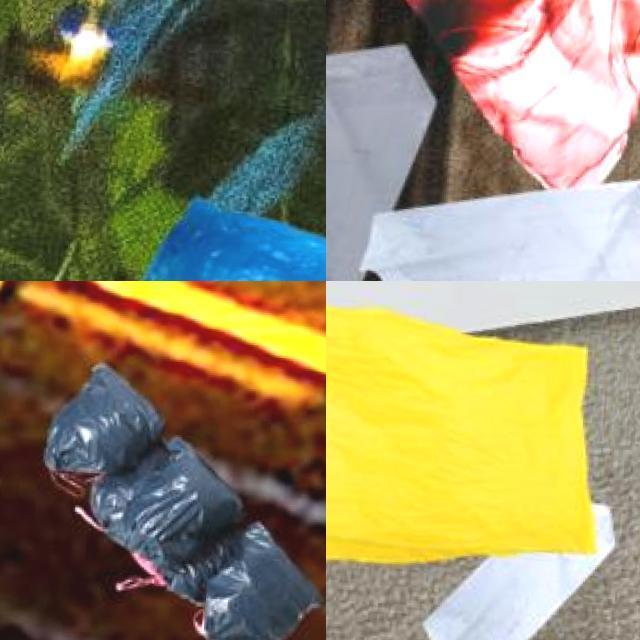waste: (326, 289, 615, 580), (370, 160, 640, 281), (326, 25, 443, 281), (84, 426, 252, 592), (104, 189, 326, 281), (426, 531, 609, 640), (195, 518, 325, 640), (48, 358, 166, 478)
